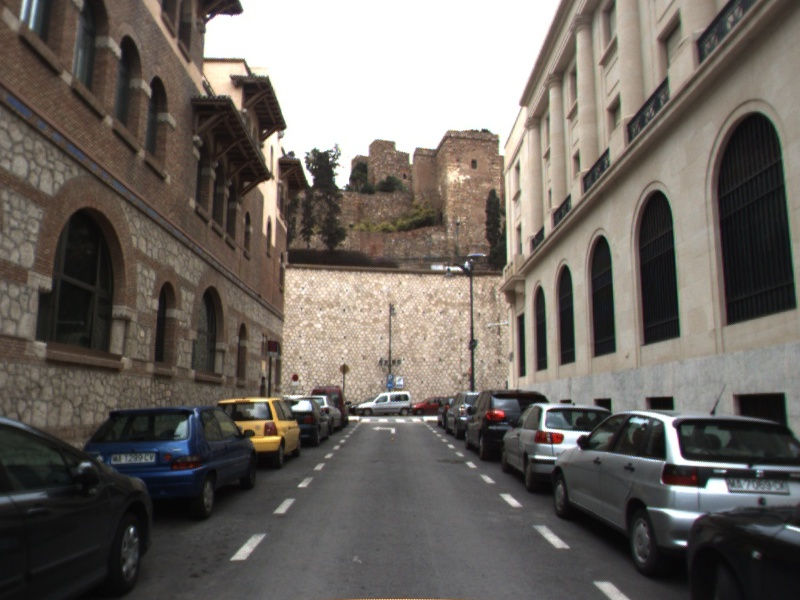LEFT: (370, 423, 398, 436)
